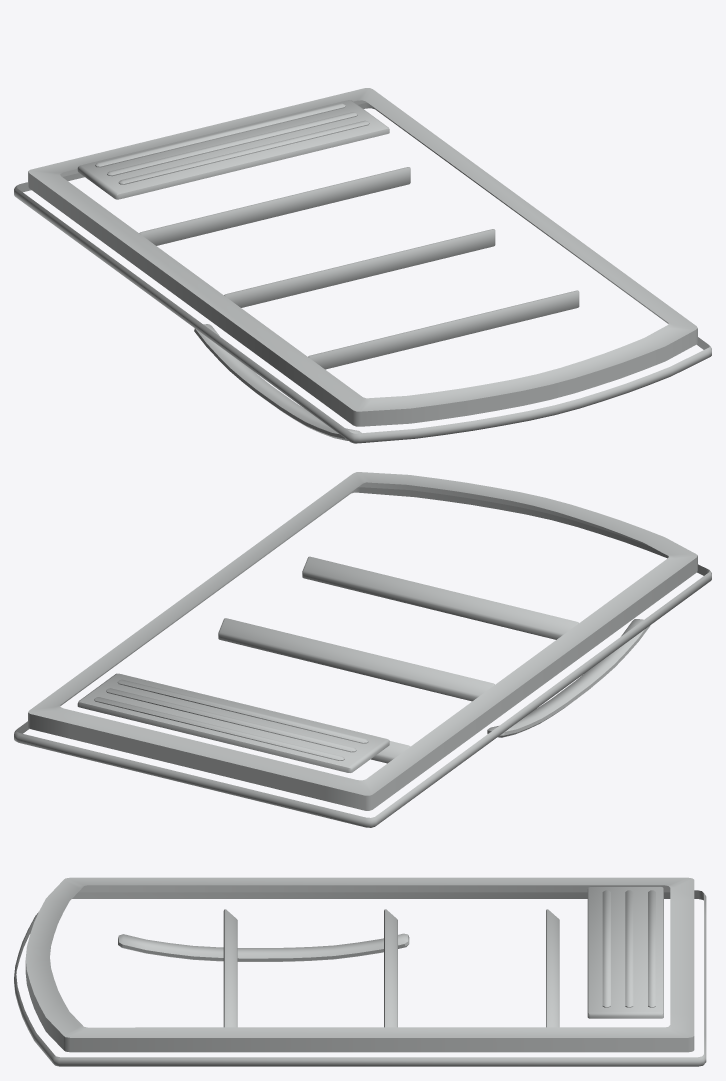
File: MeshFridgeDoorE3_1_GeomSubset_1.obj
The picture shows the model from 3 angles, top to bottom: view 1: azimuth 30°, elevation 25°; view 2: azimuth 150°, elevation 25°; view 3: azimuth 270°, elevation 25°; orthographic projection. The views are drawn at different scales.
Parts seen in each view (by area): view 1: MeshFridgeDoorE3_1_GeomSubset_1; view 2: MeshFridgeDoorE3_1_GeomSubset_1; view 3: MeshFridgeDoorE3_1_GeomSubset_1.
Part boxes in pixels (box(x1,y1,x2,y2)): MeshFridgeDoorE3_1_GeomSubset_1: box(14, 88, 711, 443); MeshFridgeDoorE3_1_GeomSubset_1: box(14, 472, 711, 827); MeshFridgeDoorE3_1_GeomSubset_1: box(14, 877, 706, 1066).
Bounding box in the file's own units: 1.07 × 0.5122 × 1.88.
